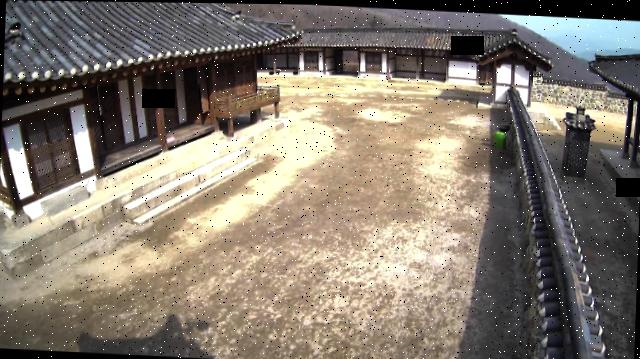bag: (493, 130, 508, 148)
